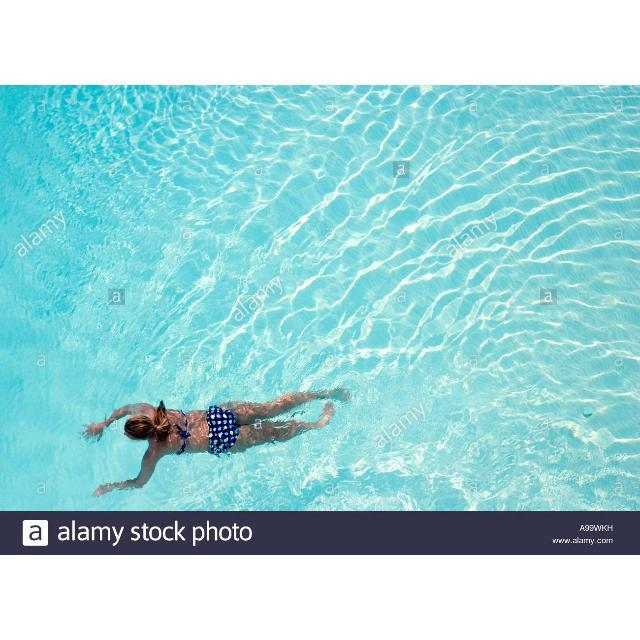human: (82, 390, 350, 499)
